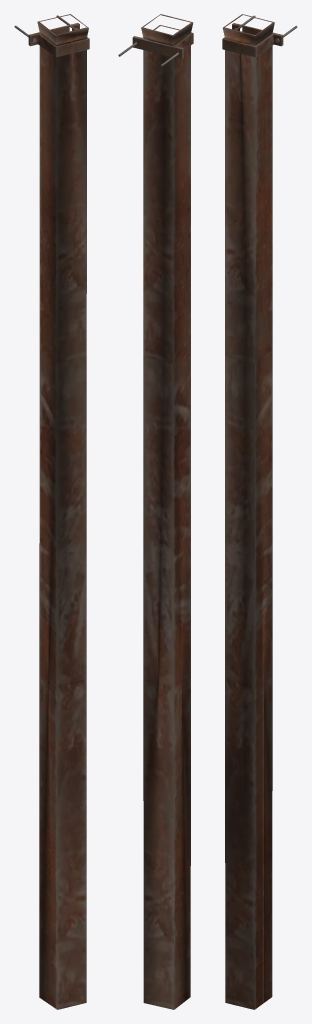
The model's file is gutter_300.glb.
3 renders of one model, left to right at view 1: azimuth 30°, elevation 25°; view 2: azimuth 150°, elevation 25°; view 3: azimuth 330°, elevation 25°, orthographic.
Parts seen in each view (by area): view 1: gutter_300, gutter_wall_connector; view 2: gutter_300, gutter_wall_connector; view 3: gutter_300, gutter_wall_connector.
Part boxes in pixels (x1,y1,x2,y2): gutter_300: [37, 14, 88, 1009]; gutter_wall_connector: [14, 15, 89, 57]; gutter_300: [141, 14, 193, 1009]; gutter_wall_connector: [118, 25, 193, 66]; gutter_300: [222, 14, 274, 1009]; gutter_wall_connector: [222, 15, 297, 57].
Size of the model in its own units: 0.16 by 3.02 by 0.205.
Materials: 1 (1 with a texture image).
